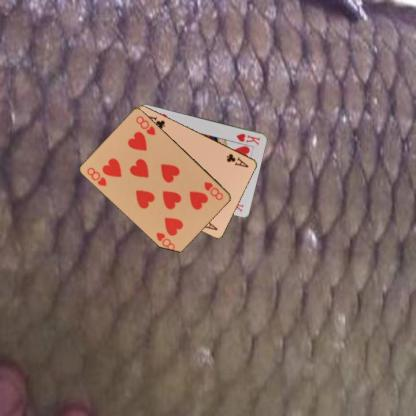8h: (202, 179, 224, 202), (85, 165, 108, 187)
Ac: (224, 151, 250, 169)
Kh: (234, 130, 261, 146)
